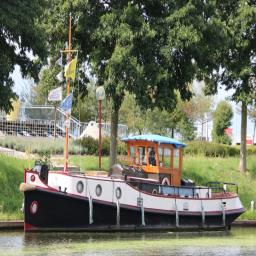tugboat: (19, 133, 249, 241)
